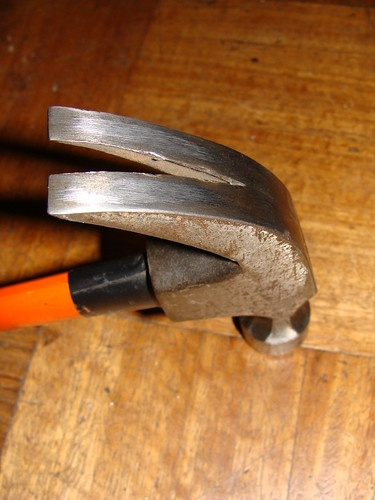hammer: (1, 106, 316, 359)
